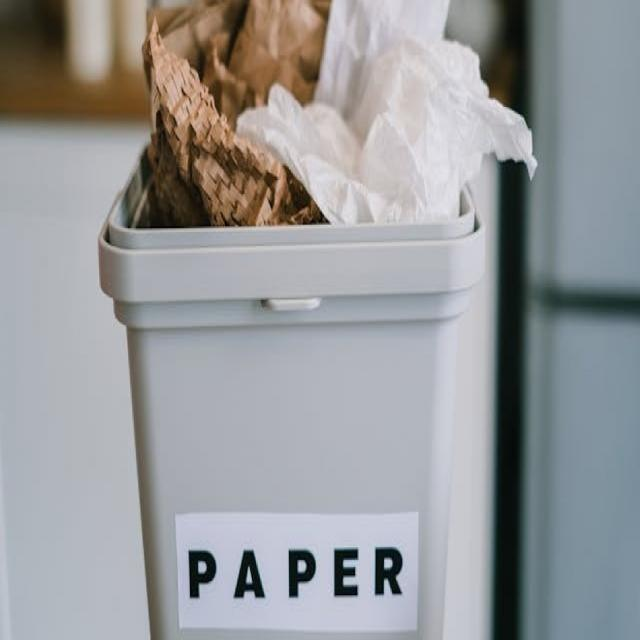Kertas: (243, 20, 506, 227)
